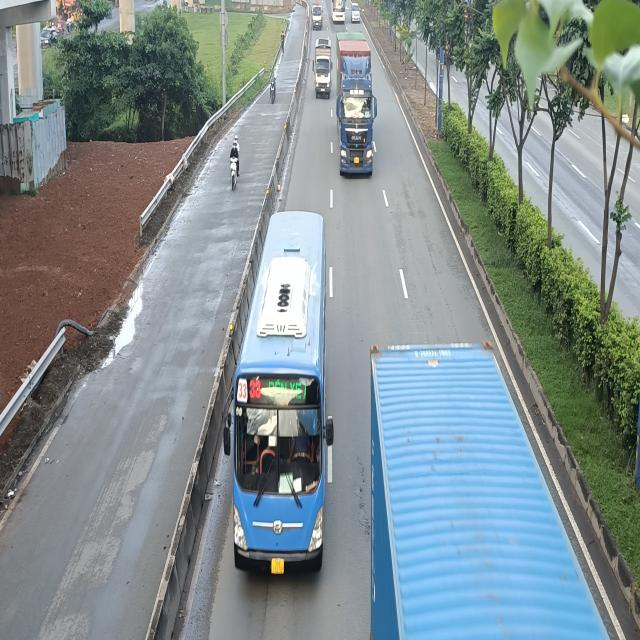coach: (224, 214, 333, 580)
container: (367, 340, 613, 640), (338, 33, 378, 175)
truck: (314, 38, 333, 102)
